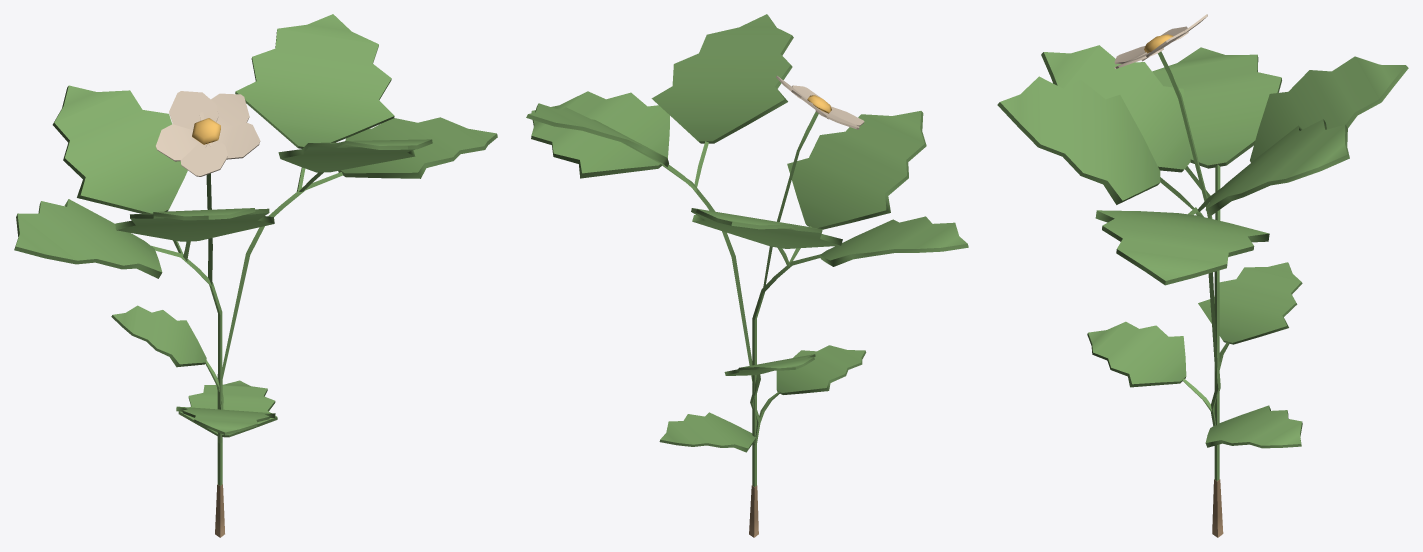
File: plant3.fbx
3 renders of one model, left to right at view 1: azimuth 30°, elevation 25°; view 2: azimuth 150°, elevation 25°; view 3: azimuth 270°, elevation 25°, orthographic. The views are drawn at different scales.
Visible parts, largest first — view 1: pCube329; view 2: pCube329; view 3: pCube329.
Part boxes in pixels (x1,y1,x2,y2): pCube329: (14, 14, 497, 537); pCube329: (526, 14, 968, 537); pCube329: (997, 14, 1408, 537).
Size of the model in its own units: 3.99 by 3.75 by 2.81.
Materials: 1 (1 with a texture image).
